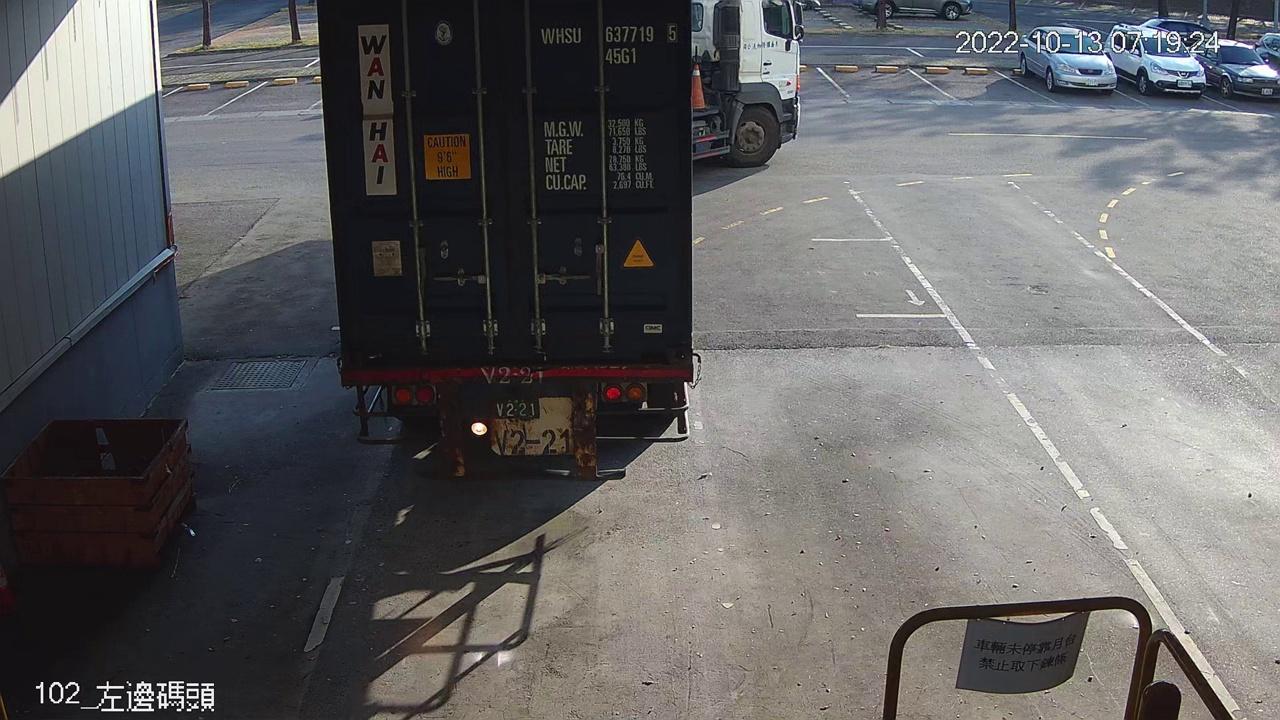container: (535, 17, 684, 70)
